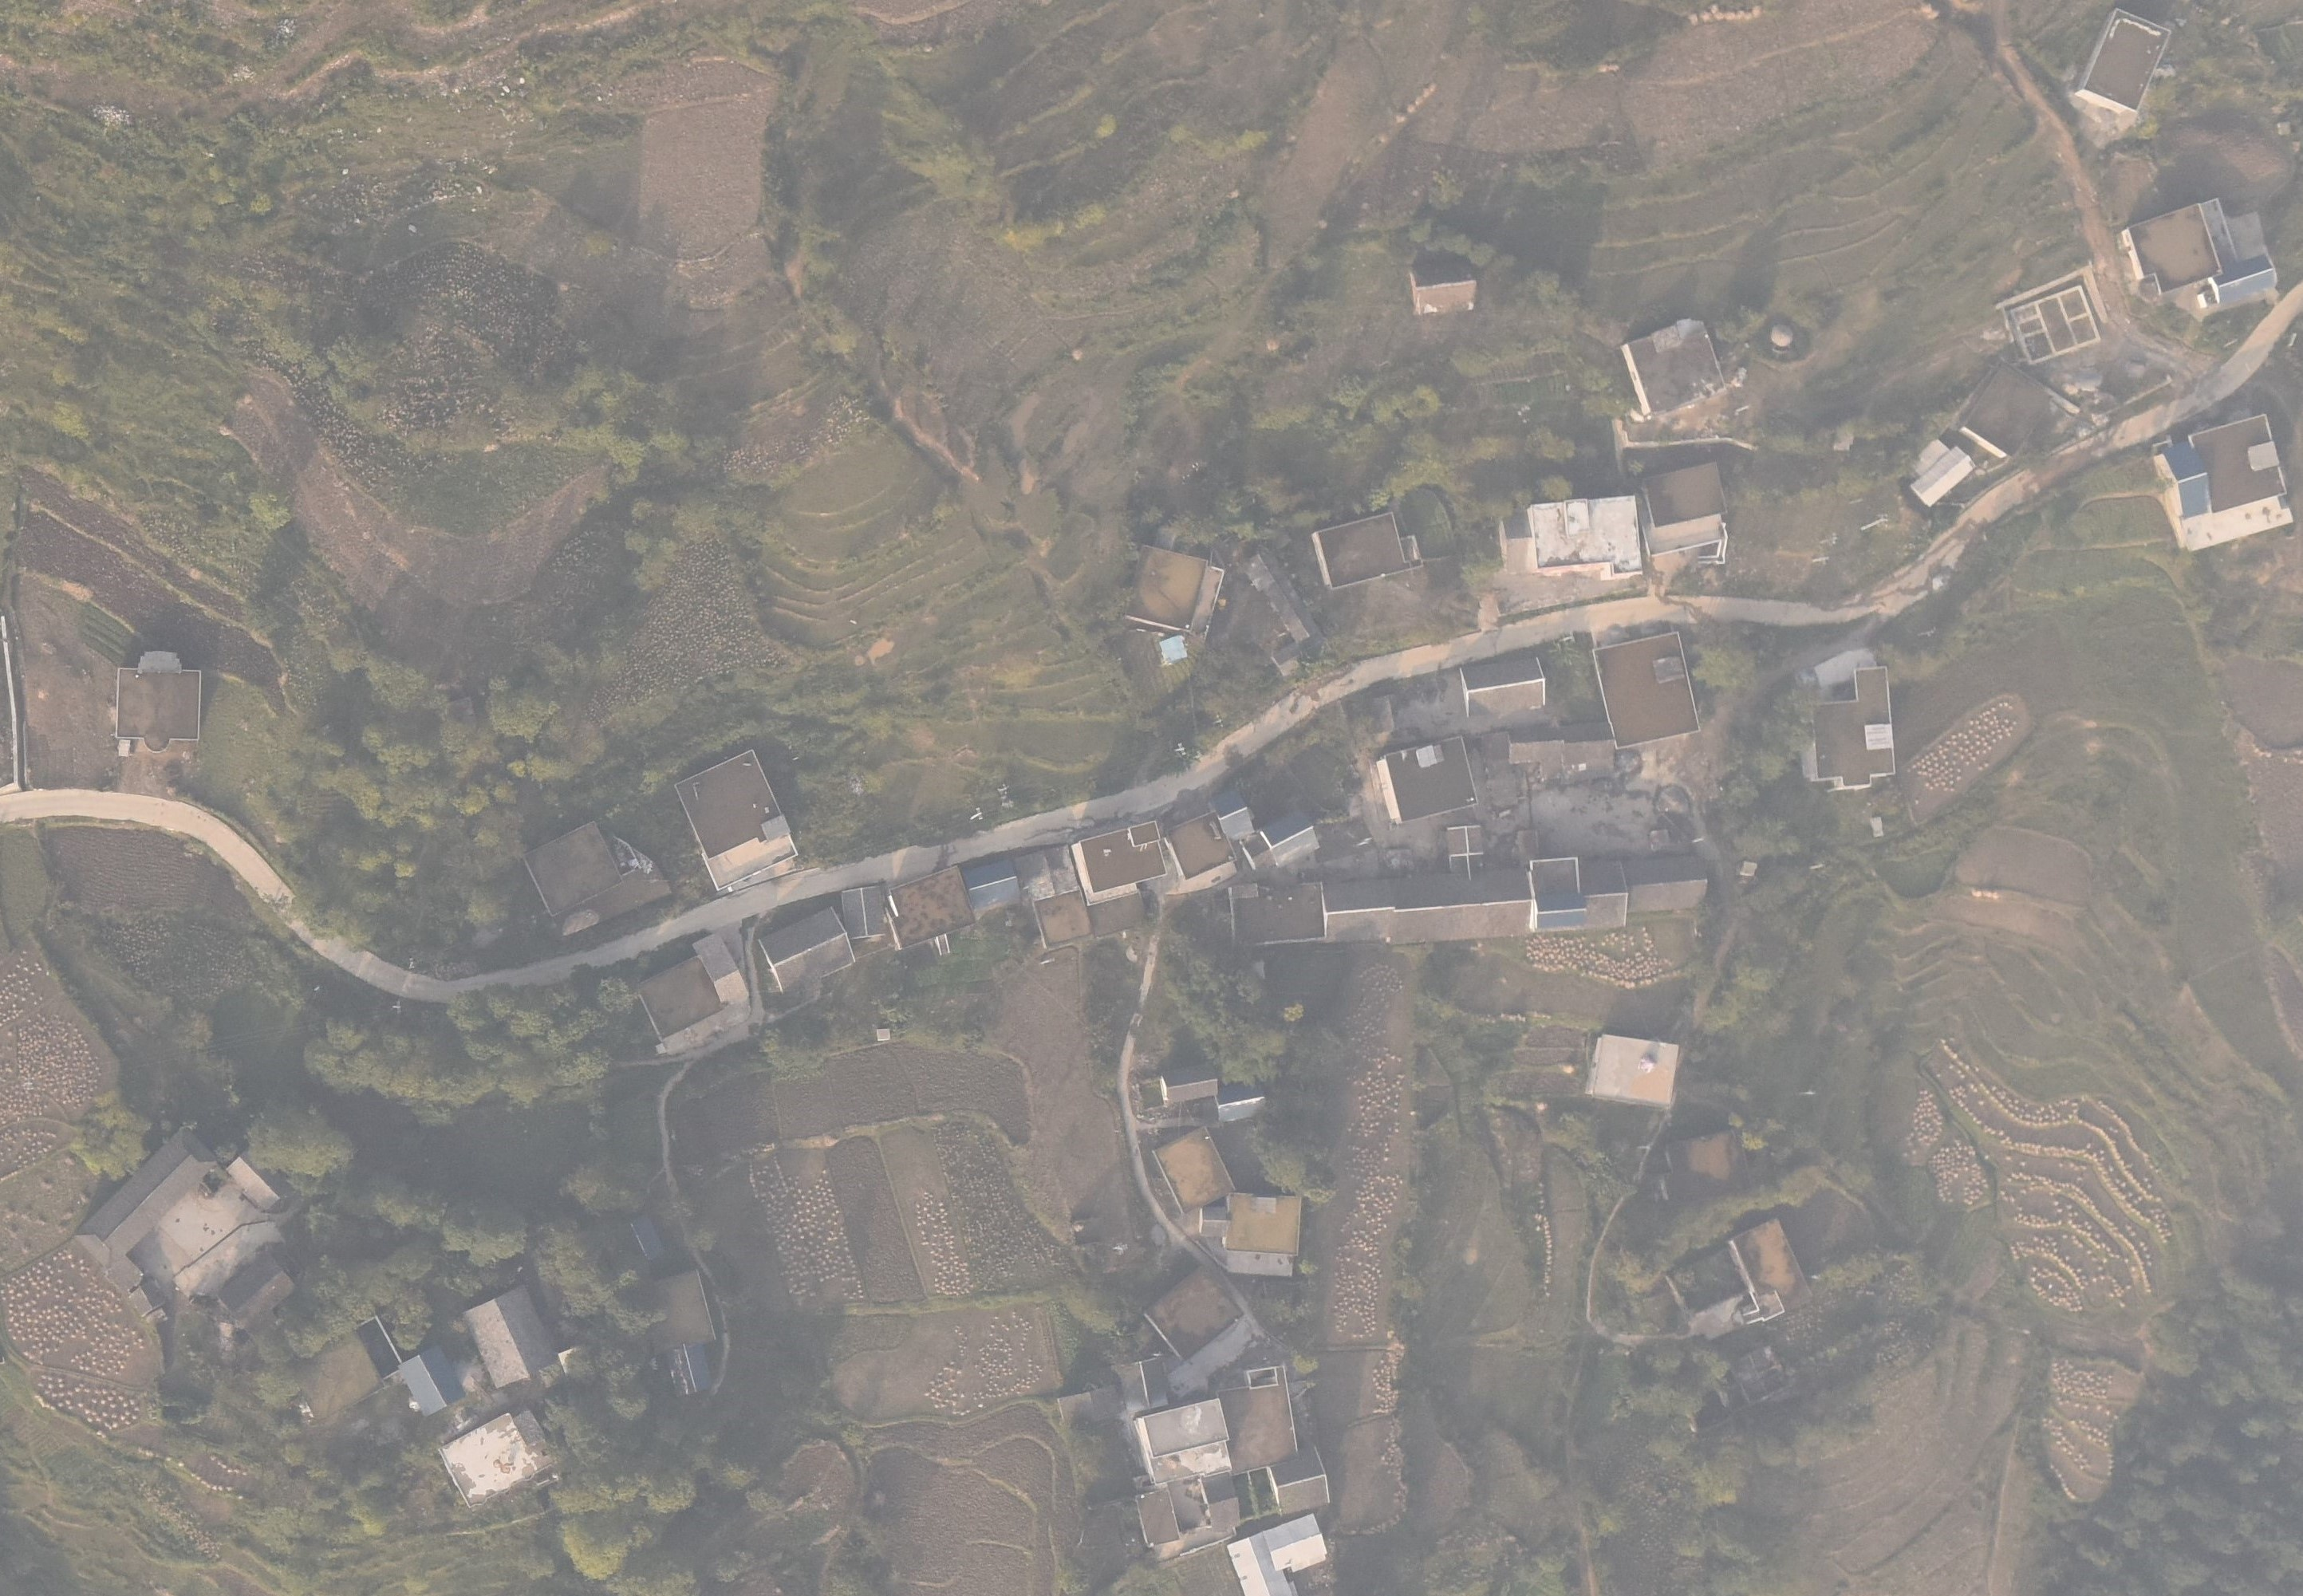building: (71, 1125, 232, 1271), (626, 928, 756, 1057), (670, 745, 804, 861), (1591, 630, 1701, 762), (1807, 663, 1902, 794), (435, 1412, 555, 1514), (2179, 410, 2291, 519), (460, 1279, 563, 1393), (1526, 490, 1644, 587), (1134, 1263, 1247, 1365), (1621, 316, 1731, 420), (1720, 1214, 1820, 1326), (752, 903, 864, 999), (520, 821, 629, 918), (1213, 1363, 1304, 1476), (1388, 869, 1528, 942), (112, 662, 212, 763), (2081, 6, 2172, 117), (1961, 361, 2060, 459), (2124, 202, 2224, 298), (1313, 506, 1429, 589), (1375, 735, 1482, 824), (879, 862, 982, 955), (1121, 542, 1215, 642), (1134, 1396, 1236, 1484), (1577, 1028, 1682, 1113), (1146, 1124, 1240, 1216), (2003, 285, 2104, 363), (1072, 818, 1167, 896), (627, 1271, 715, 1355), (1225, 880, 1325, 952), (212, 1252, 298, 1333), (1221, 1188, 1306, 1266), (1451, 653, 1548, 720), (1161, 805, 1242, 885), (1639, 459, 1733, 528), (1618, 852, 1712, 917), (1315, 877, 1399, 947), (1264, 1443, 1343, 1517), (1529, 854, 1590, 942), (1225, 1527, 1300, 1596), (392, 1346, 461, 1419), (1408, 258, 1490, 320), (227, 1142, 298, 1212), (2205, 254, 2281, 317), (2151, 441, 2211, 519), (1259, 1512, 1333, 1572), (1576, 854, 1631, 934), (1256, 809, 1329, 867), (350, 1313, 408, 1384), (963, 857, 1023, 917), (1107, 1353, 1169, 1407), (1130, 1481, 1181, 1547), (1158, 1058, 1221, 1110), (1556, 718, 1619, 770), (1197, 1469, 1244, 1534), (1493, 507, 1537, 575), (838, 879, 882, 948), (667, 1344, 721, 1398), (1204, 785, 1256, 839), (1213, 1081, 1277, 1124), (1500, 725, 1565, 763), (625, 1210, 664, 1271), (1448, 820, 1485, 873), (1232, 831, 1276, 871), (104, 1256, 147, 1293), (128, 1280, 164, 1318), (1197, 1203, 1230, 1239)
prefabricated-house: (1909, 443, 1979, 506), (1158, 633, 1191, 664)
